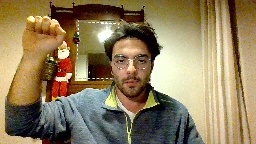Pugno: (20, 12, 68, 61)
